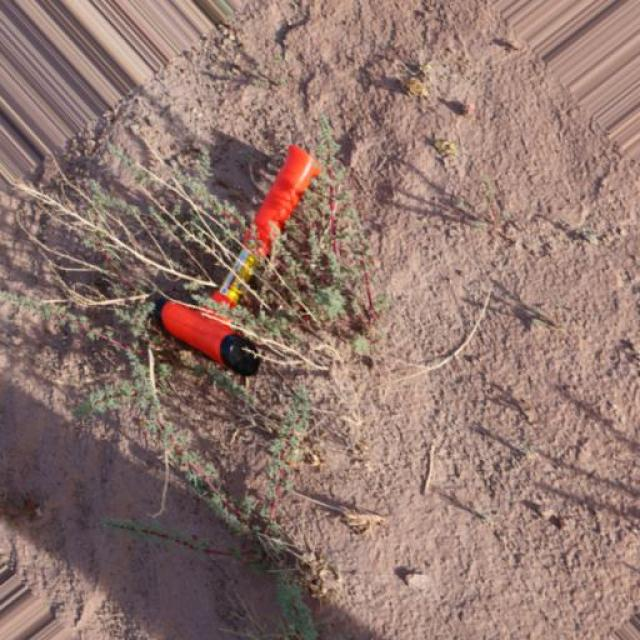mallet: (152, 142, 322, 378)
